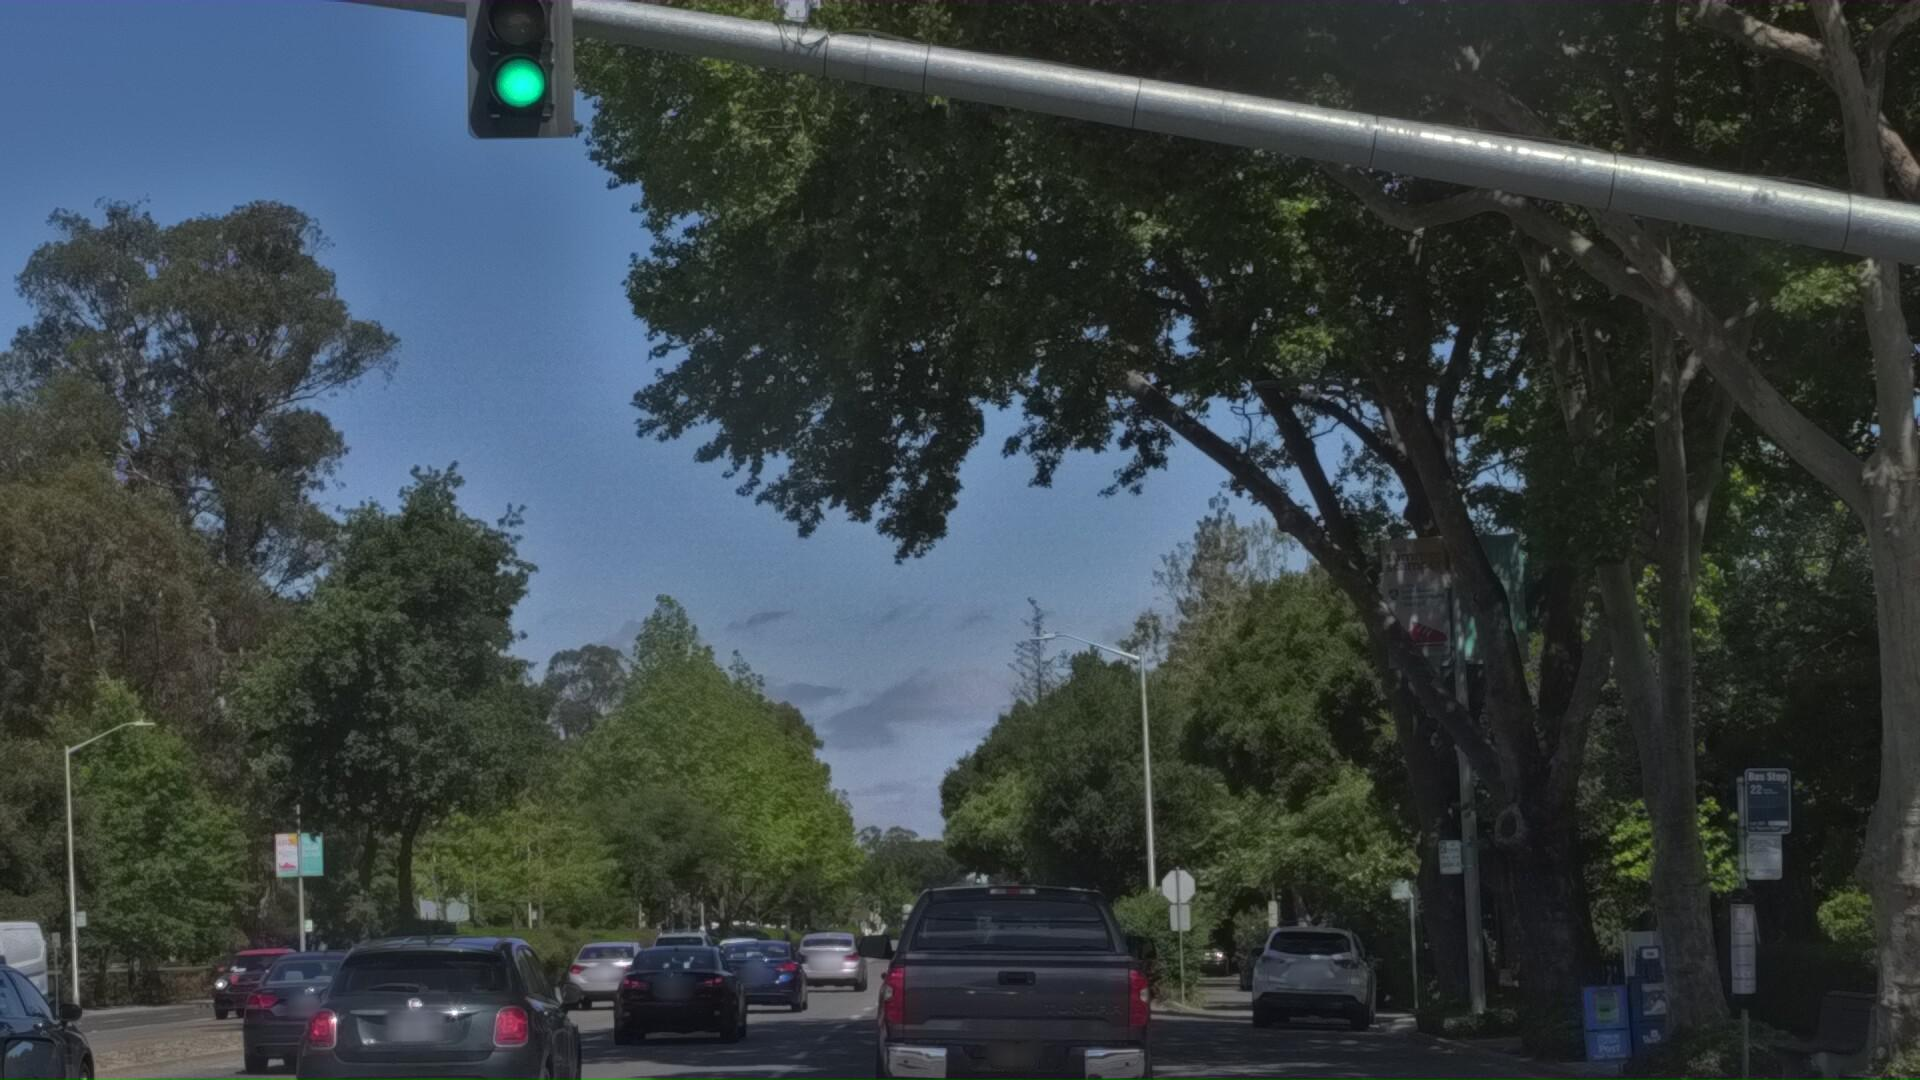car: (0, 754, 189, 1080), (853, 890, 1174, 1080), (291, 956, 613, 1080), (229, 994, 439, 1080), (975, 975, 1143, 1080), (1255, 928, 1381, 1048), (604, 986, 754, 1080), (0, 992, 146, 1080), (731, 978, 840, 1069), (204, 957, 313, 1048), (0, 938, 51, 1080), (563, 973, 659, 1048)
